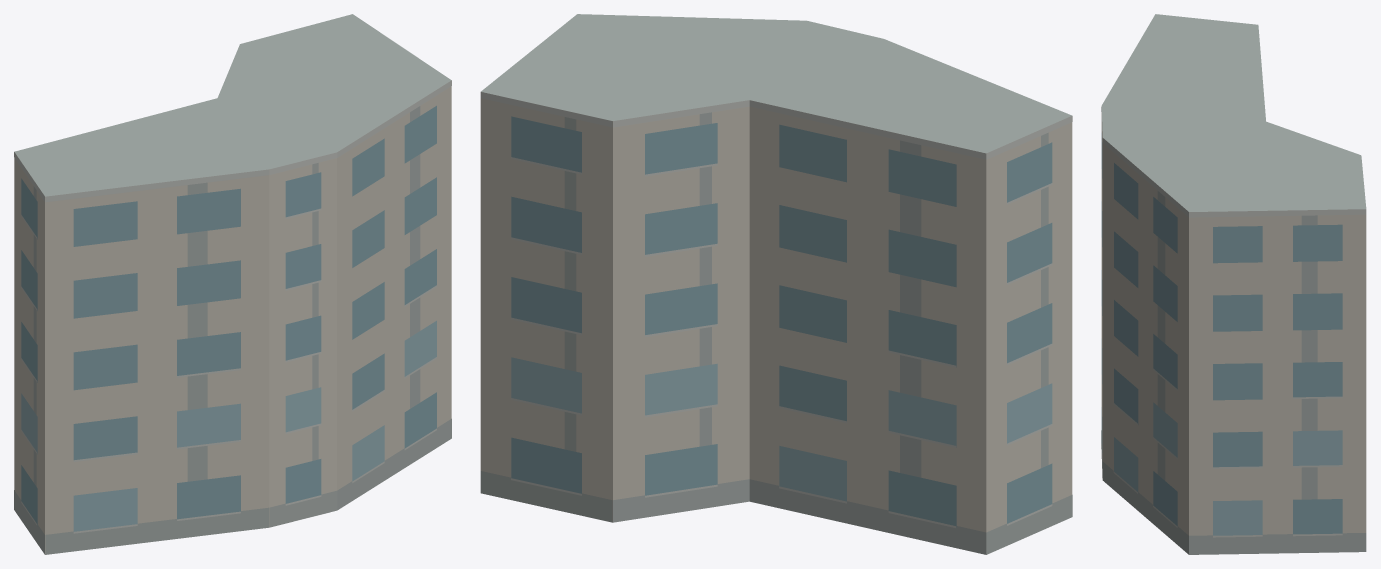
File: residential-880d4c54-118c-45ae-bd60-3b2eb2af8ad6.glb
The picture shows the model from 3 angles, left to right: view 1: azimuth 30°, elevation 25°; view 2: azimuth 150°, elevation 25°; view 3: azimuth 270°, elevation 25°; orthographic projection. The views are drawn at different scales.
Visible parts, largest first — view 1: residential-880d4c54-118c-45ae-bd60-3b2eb2af8ad6.tmp; view 2: residential-880d4c54-118c-45ae-bd60-3b2eb2af8ad6.tmp; view 3: residential-880d4c54-118c-45ae-bd60-3b2eb2af8ad6.tmp.
Part boxes in pixels (<box>): residential-880d4c54-118c-45ae-bd60-3b2eb2af8ad6.tmp: <box>14,14,451,554</box>; residential-880d4c54-118c-45ae-bd60-3b2eb2af8ad6.tmp: <box>480,14,1072,554</box>; residential-880d4c54-118c-45ae-bd60-3b2eb2af8ad6.tmp: <box>1101,14,1366,554</box>.
Size of the model in its own units: 18.91 by 15.25 by 10.69.
